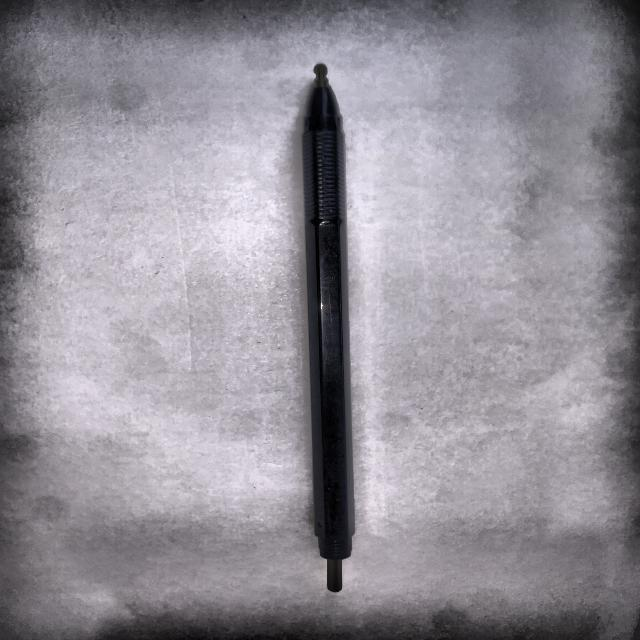Pulpen: (290, 60, 384, 608)
